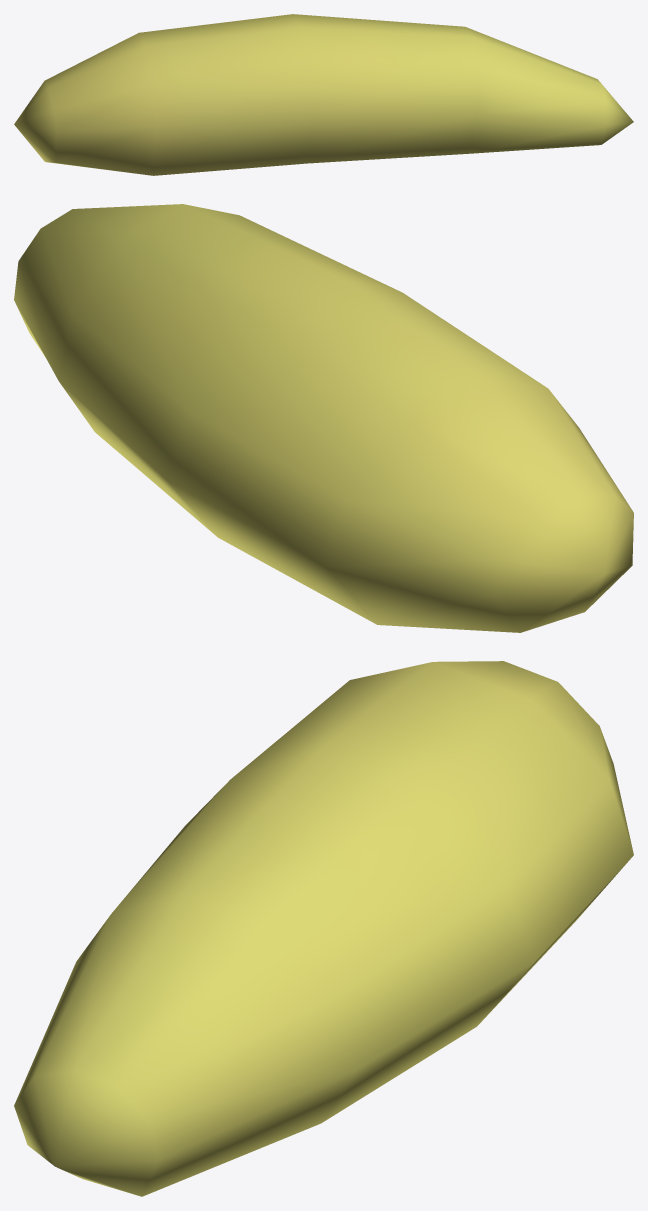
The model's file is PC_Woman_Eyebrow006_L.glb.
3 views of the same model, one above another, from view 1: azimuth 30°, elevation 25°; view 2: azimuth 150°, elevation 25°; view 3: azimuth 270°, elevation 25° (orthographic). The views are drawn at different scales.
Parts seen in each view (by area): view 1: PC_Woman_Eyebrow006_L_mesh; view 2: PC_Woman_Eyebrow006_L_mesh; view 3: PC_Woman_Eyebrow006_L_mesh.
Part boxes in pixels (x1,y1,x2,y2): PC_Woman_Eyebrow006_L_mesh: (14, 14, 633, 175); PC_Woman_Eyebrow006_L_mesh: (14, 204, 633, 632); PC_Woman_Eyebrow006_L_mesh: (14, 661, 633, 1196).
Bounding box in the file's own units: 0.1417 × 0.0394 × 0.0866.
Materials: 1 (1 with a texture image).
